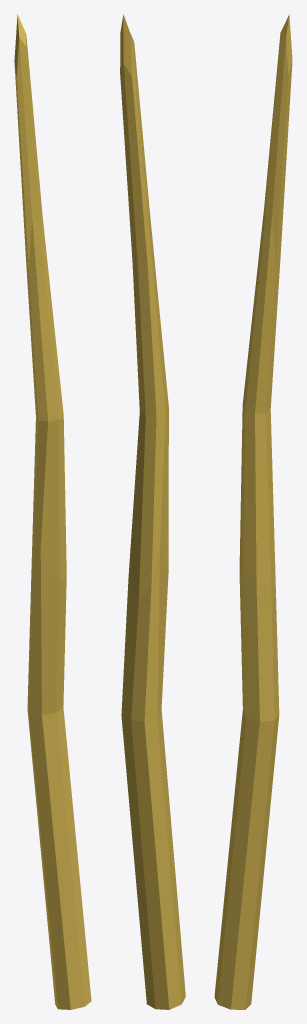
File: wheat_cutup.fbx
3 views of the same model, side by side, from view 1: azimuth 90°, elevation 25°; view 2: azimuth 150°, elevation 25°; view 3: azimuth 270°, elevation 25° (orthographic). The views are drawn at different scales.
Visible parts, largest first — view 1: Trunk.001; view 2: Trunk.001; view 3: Trunk.001.
Part boxes in pixels (x1,y1,x2,y2): Trunk.001: [14, 14, 91, 1009]; Trunk.001: [120, 14, 185, 1009]; Trunk.001: [214, 14, 292, 1009].
Size of the model in its own units: 0.0419 by 0.919 by 0.0653.
